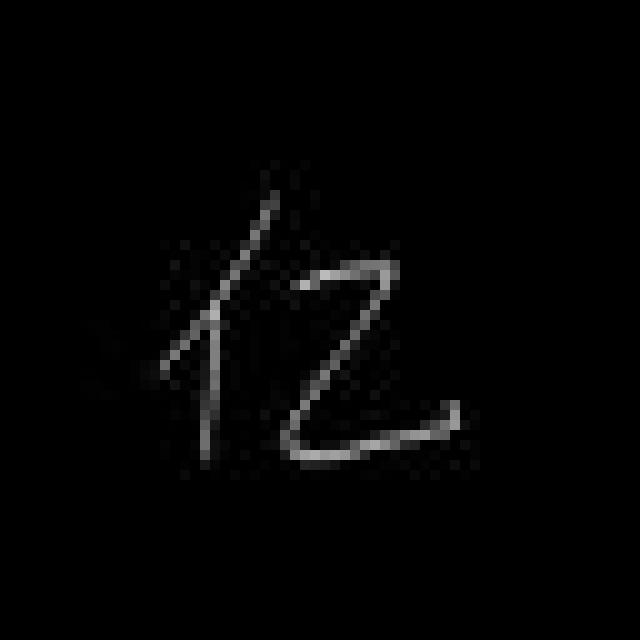100000 -a hundred thousand-: (153, 180, 471, 477)
